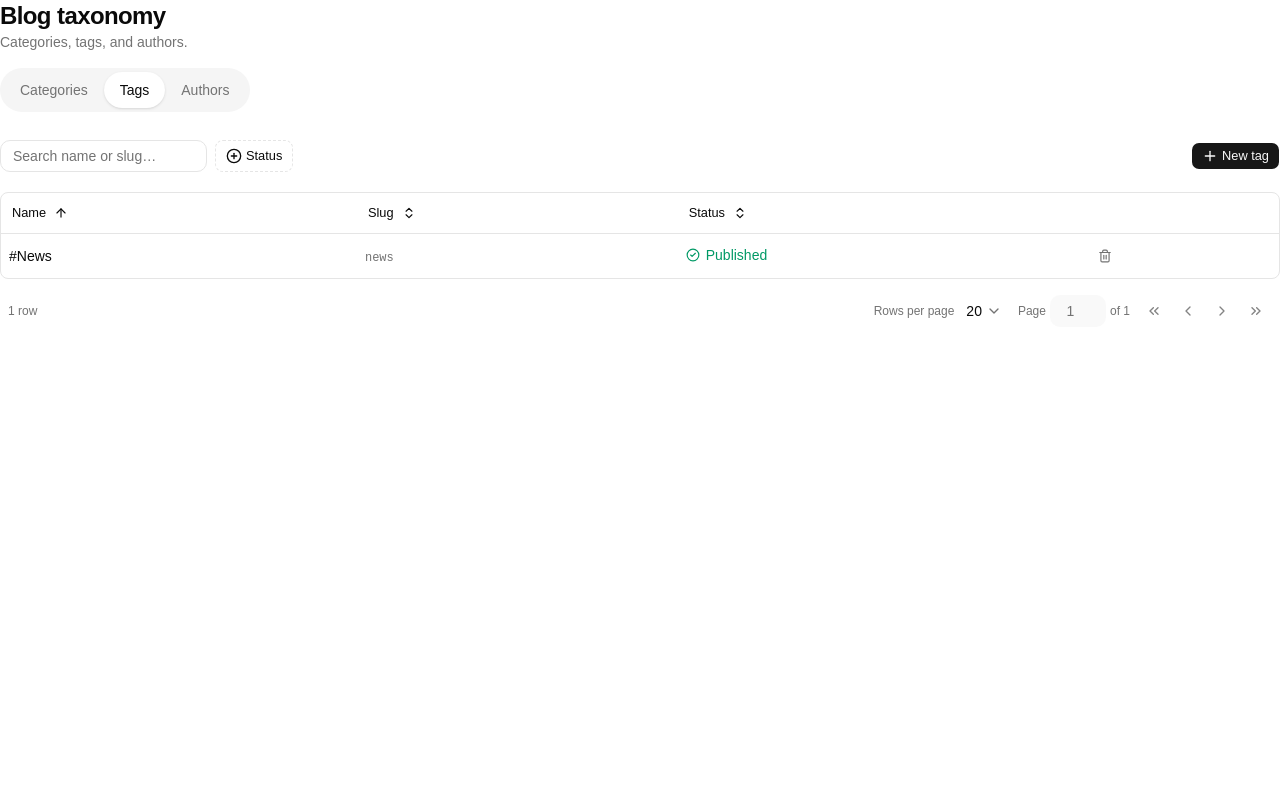
Test: BlogTaxonomyPage delete › closes once the delete goes through
This screenshot has width=1280, height=800.
Expected: the link "New tag" is shown, [1191, 142, 1279, 170]
Click the 5th button: (1105, 256) [1089, 242, 1121, 270]
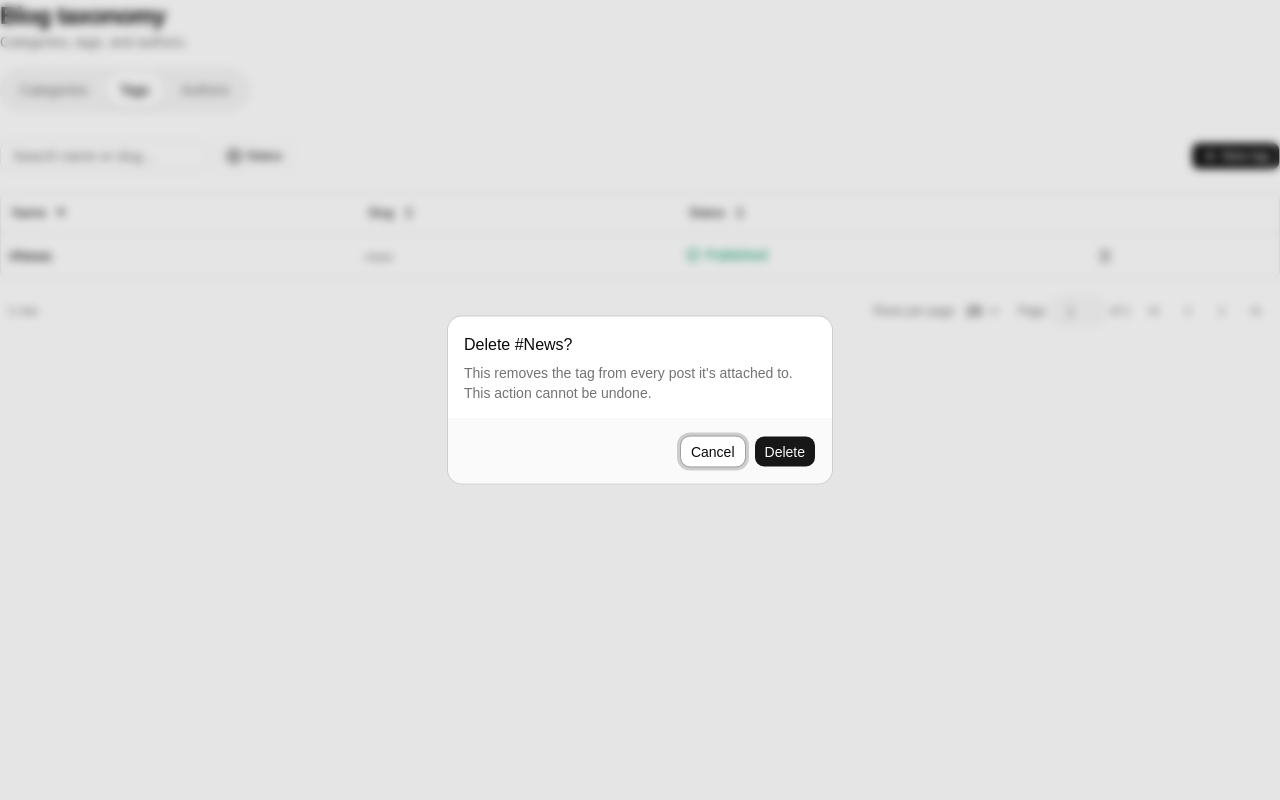
Expected: the heading "Delete #News?" is shown, [464, 332, 572, 356]
Click the button "Delete": (785, 452) [754, 436, 816, 468]
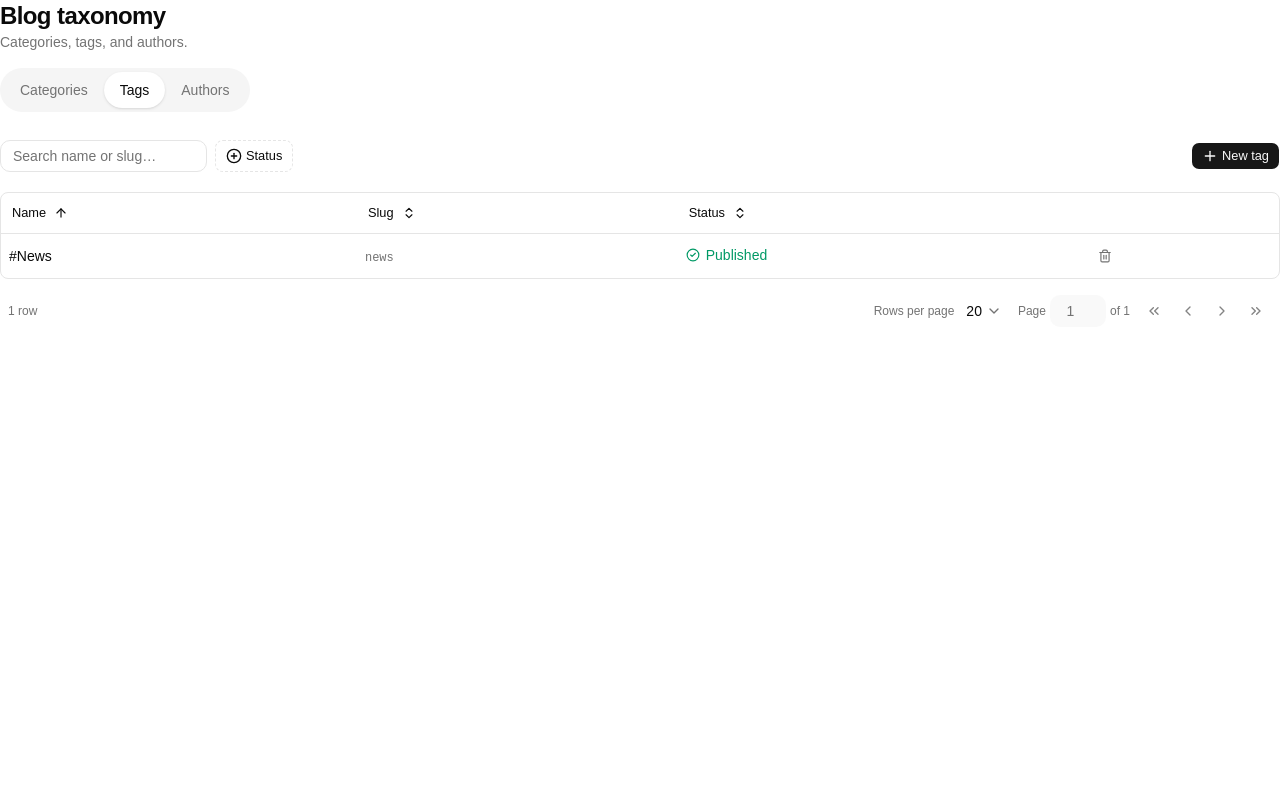
Expected: the dialog is gone
